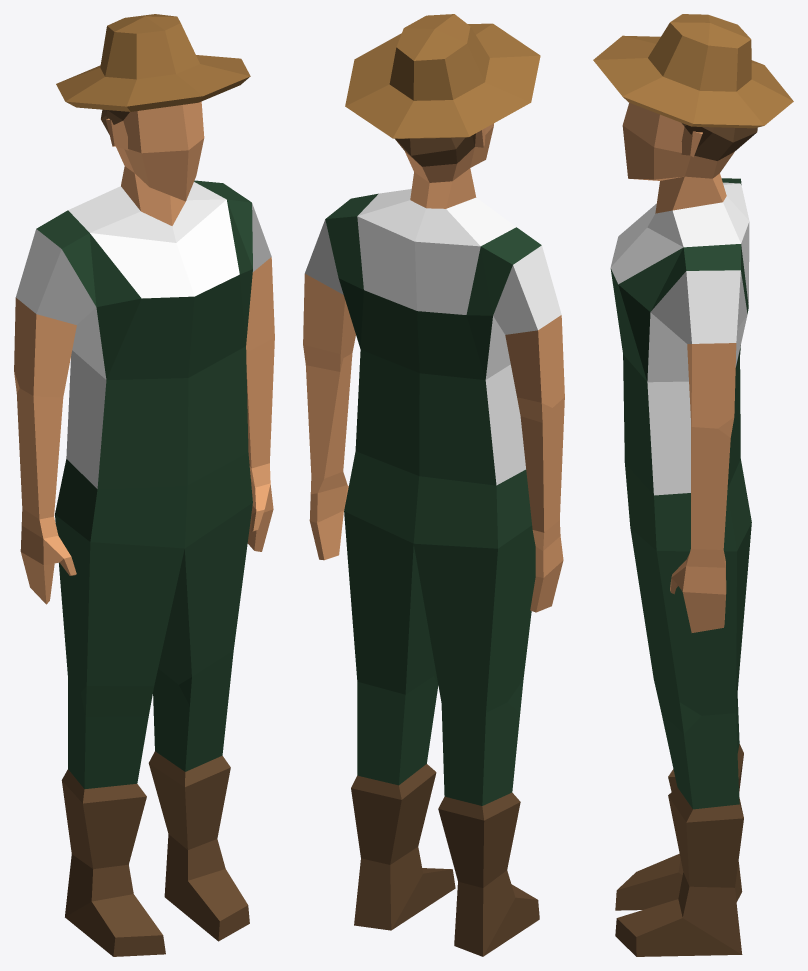
File: woman-farm.glb
3 renders of one model, left to right at view 1: azimuth 30°, elevation 25°; view 2: azimuth 150°, elevation 25°; view 3: azimuth 270°, elevation 25°, orthographic.
Parts seen in each view (by area): view 1: woman-farm; view 2: woman-farm; view 3: woman-farm.
Boxes of the visible parts, x1=… form: woman-farm: x1=14, y1=14, x2=274, y2=956; woman-farm: x1=303, y1=14, x2=564, y2=956; woman-farm: x1=593, y1=14, x2=793, y2=956.
Size of the model in its own units: 0.5327 by 1.88 by 0.3804.
Materials: 1 (1 with a texture image).
